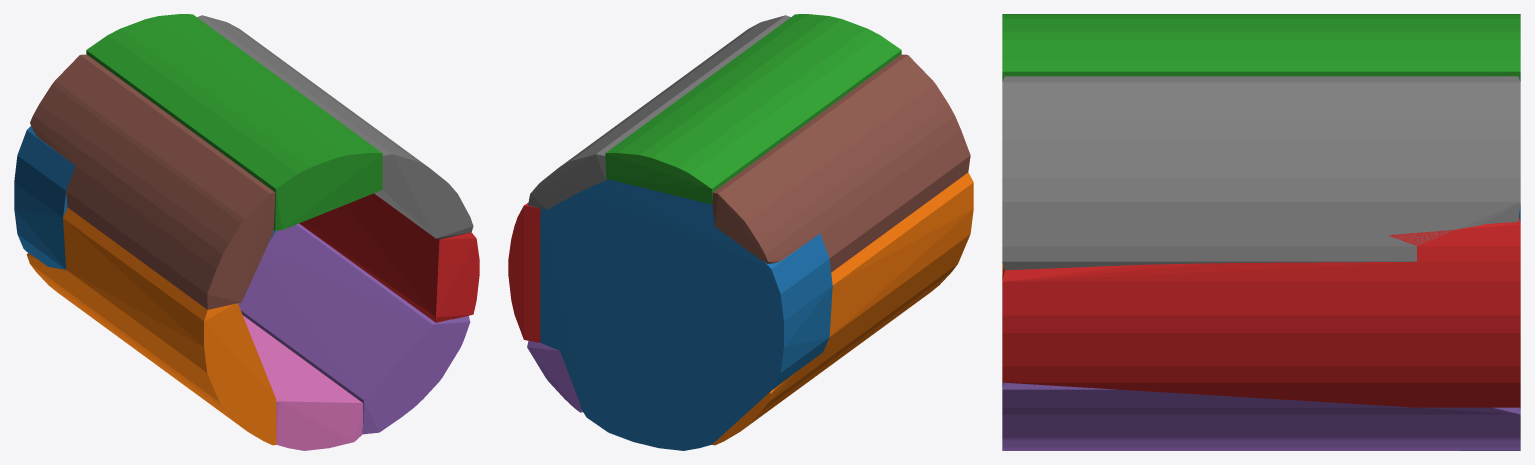
The model's file is cup_decomposed.obj.
3 views of the same model, side by side, from view 1: azimuth 30°, elevation 25°; view 2: azimuth 150°, elevation 25°; view 3: azimuth 270°, elevation 25° (orthographic). The views are drawn at different scales.
Parts seen in each view (by area): view 1: cup005, cup002, cup004, cup001, cup003, cup007, cup006, cup000; view 2: cup000, cup005, cup002, cup001, cup007, cup003, cup004; view 3: cup007, cup003, cup002, cup004.
Boxes of the visible parts, <box> form: cup005: <box>30,54,275,309</box>; cup002: <box>86,14,382,230</box>; cup004: <box>238,223,470,434</box>; cup001: <box>27,207,276,445</box>; cup003: <box>299,193,479,322</box>; cup007: <box>197,15,473,239</box>; cup006: <box>243,315,362,450</box>; cup000: <box>14,126,275,270</box>; cup000: <box>540,179,832,450</box>; cup005: <box>712,54,970,272</box>; cup002: <box>605,14,901,204</box>; cup001: <box>712,172,973,445</box>; cup007: <box>528,15,790,209</box>; cup003: <box>508,202,540,342</box>; cup004: <box>527,341,582,412</box>; cup007: <box>1002,76,1520,270</box>; cup003: <box>1002,217,1520,407</box>; cup002: <box>1002,14,1520,80</box>; cup004: <box>1002,382,1520,450</box>.
Size of the model in its own units: 0.1015 by 0.1015 by 0.1212.
